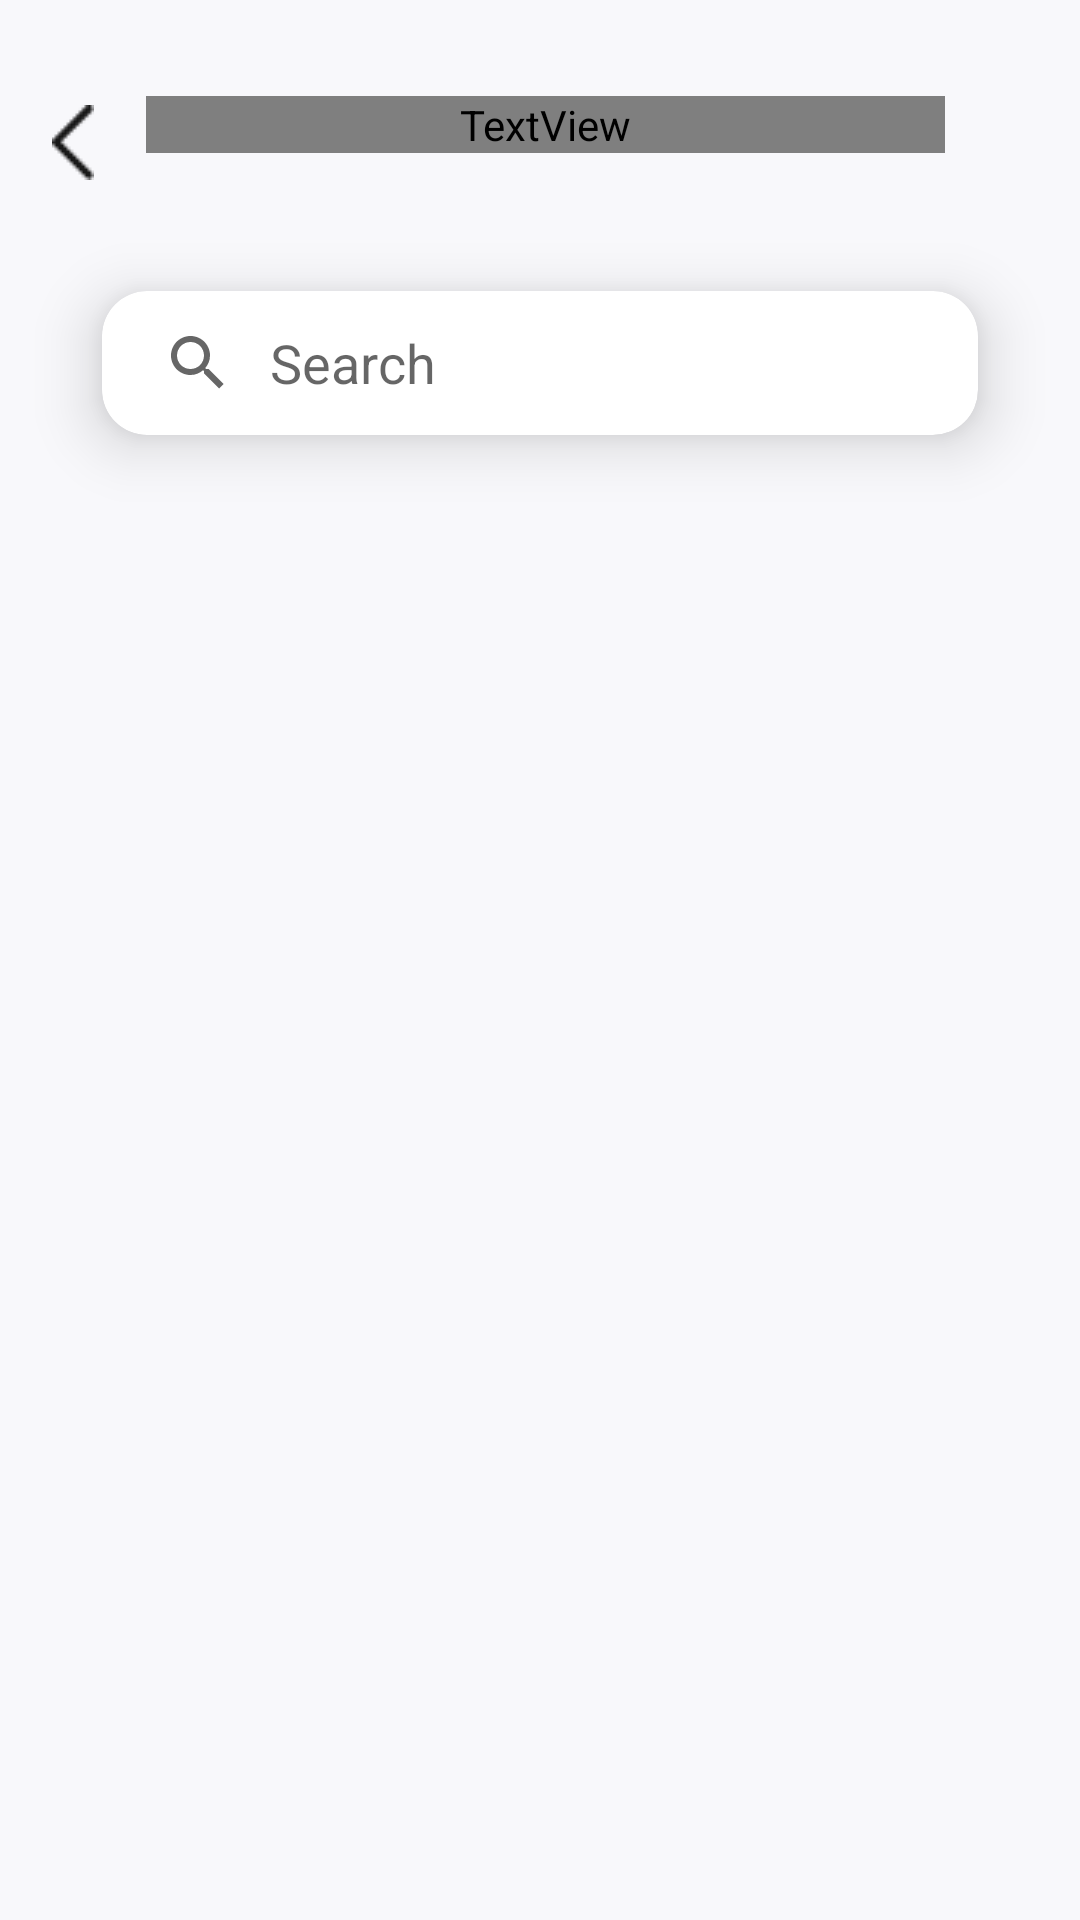

Icons on this 1080 × 1920 Android screen, each with its box as (x1,y1,x2,y2):
Back Button: (52,105,94,180)
